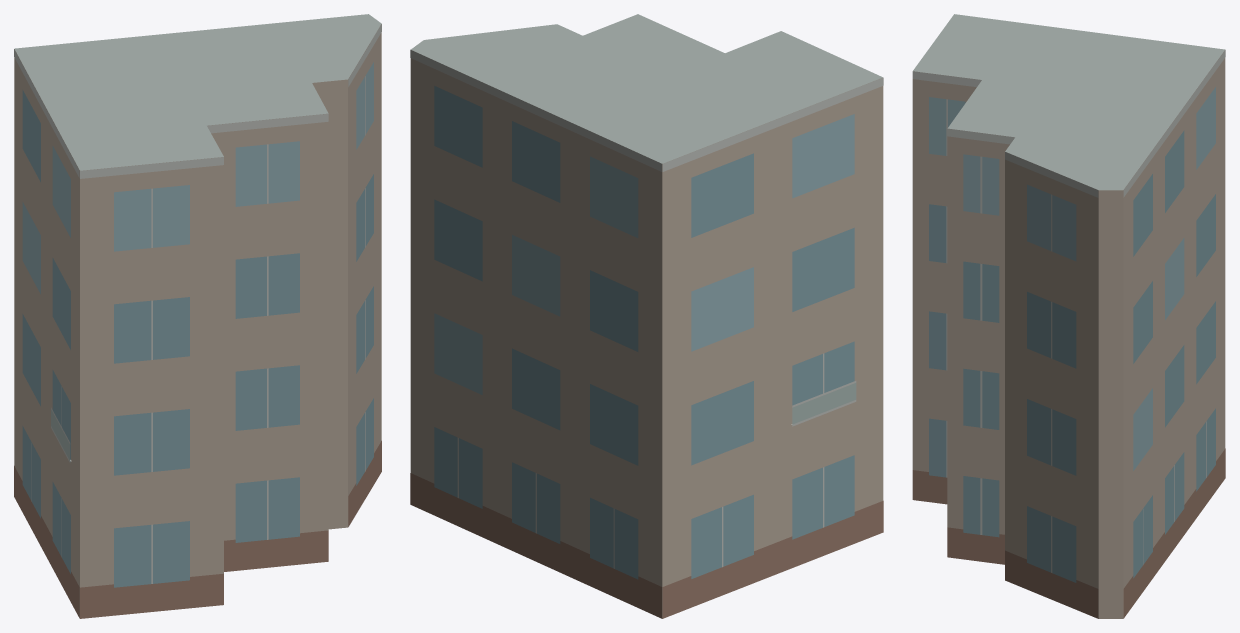
Rendered from survey-upis-32983885.glb.
3 views of the same model, side by side, from view 1: azimuth 30°, elevation 25°; view 2: azimuth 150°, elevation 25°; view 3: azimuth 270°, elevation 25° (orthographic). The views are drawn at different scales.
Parts seen in each view (by area): view 1: survey-upis-32983885.tmp; view 2: survey-upis-32983885.tmp; view 3: survey-upis-32983885.tmp.
Boxes of the visible parts, <box> form: survey-upis-32983885.tmp: <box>14,14,381,618</box>; survey-upis-32983885.tmp: <box>410,14,883,618</box>; survey-upis-32983885.tmp: <box>912,14,1225,618</box>.
Bounding box in the file's own units: 11.73 × 13.3 × 8.8.
